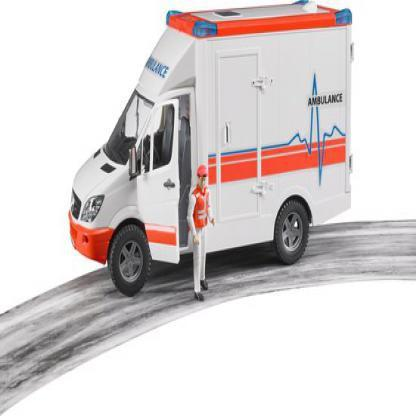Ambulance - v1 Ambulance last generate: (60, 0, 356, 295)
